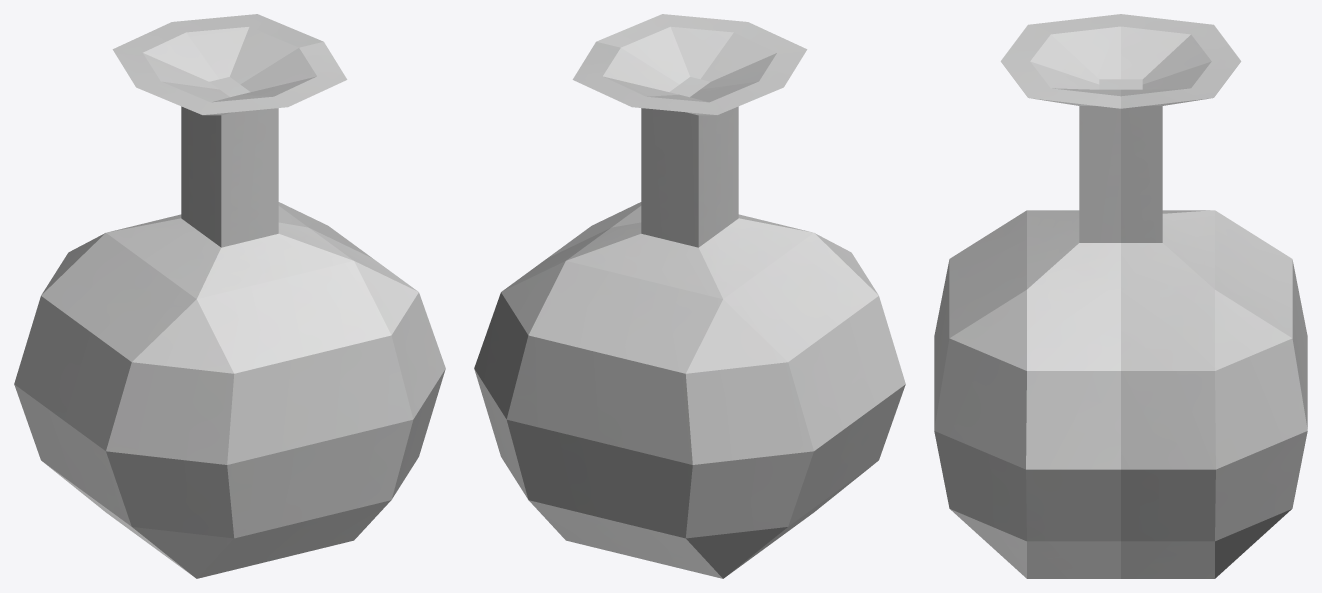
File: Pottery1.fbx
3 views of the same model, side by side, from view 1: azimuth 30°, elevation 25°; view 2: azimuth 150°, elevation 25°; view 3: azimuth 270°, elevation 25° (orthographic). The views are drawn at different scales.
Parts seen in each view (by area): view 1: 陶瓷.001; view 2: 陶瓷.001; view 3: 陶瓷.001.
Boxes of the visible parts, x1,y1,x2,y2 form: 陶瓷.001: (14,14,445,578); 陶瓷.001: (474,14,905,578); 陶瓷.001: (934,14,1307,578).
Size of the model in its own units: 11.56 by 15.01 by 10.63.
